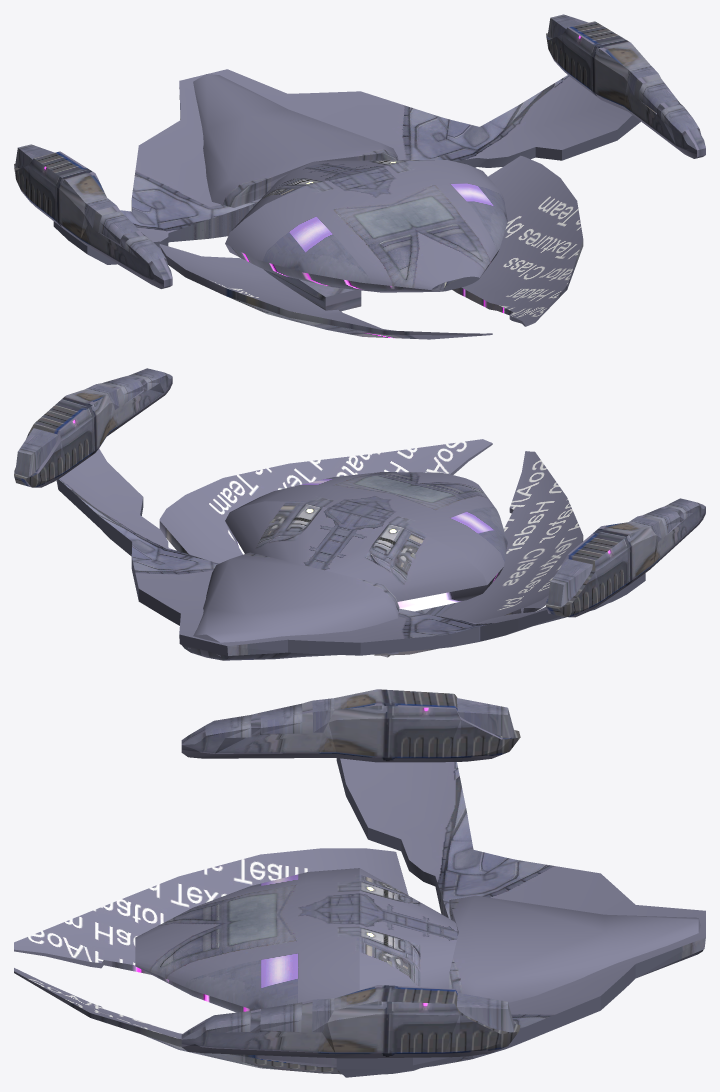
Rendered from Dom_Dominator.fbx.
3 views of the same model, one above another, from view 1: azimuth 30°, elevation 25°; view 2: azimuth 150°, elevation 25°; view 3: azimuth 270°, elevation 25° (orthographic). The views are drawn at different scales.
Parts seen in each view (by area): view 1: Dom_Dominator; view 2: Dom_Dominator; view 3: Dom_Dominator.
Boxes of the visible parts, x1,y1,x2,y2 form: Dom_Dominator: (14, 14, 705, 339); Dom_Dominator: (14, 368, 705, 660); Dom_Dominator: (14, 689, 705, 1077).
Size of the model in its own units: 142 by 40.06 by 131.
1 material, 1 textured.
